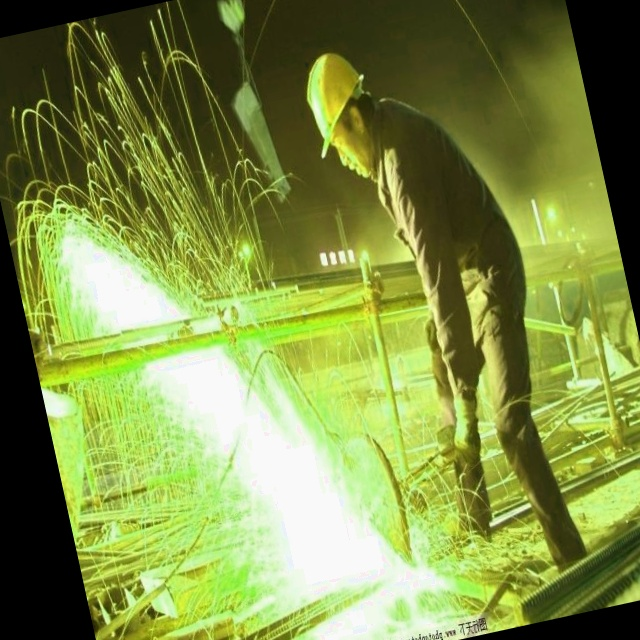Con_Casco: (298, 49, 383, 183)
